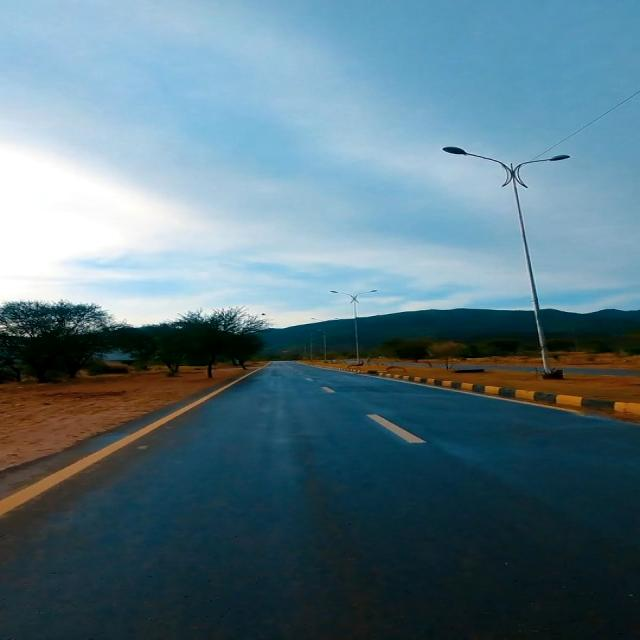lane: (0, 362, 269, 515), (367, 414, 424, 443)
road: (2, 362, 638, 639)
